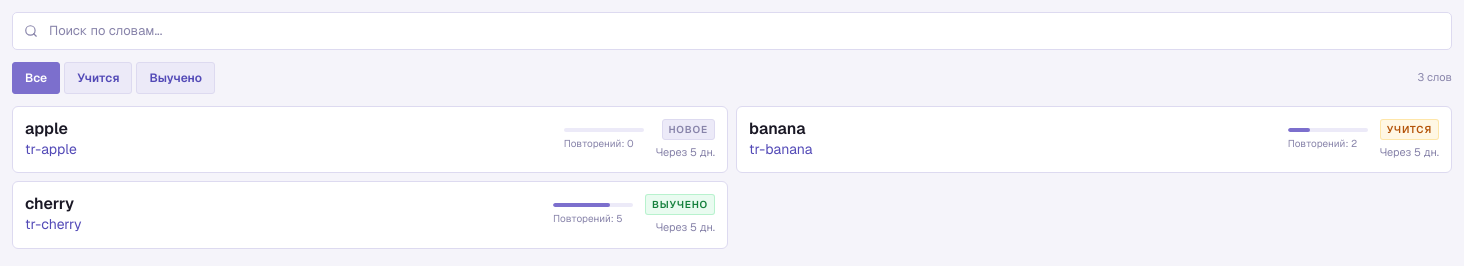
Test: VocabList › tab filter correctly filters by learning status
Click the button "Учится" at (98, 78), box [64,62,132,94]
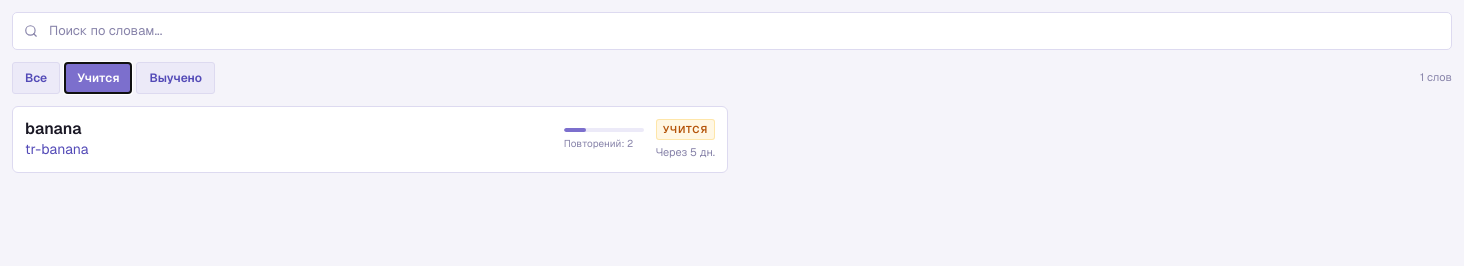
Expected: the text "banana" is shown, [25,118,82,139]
Now the text "apple" is gone
Now the text "cherry" is gone
